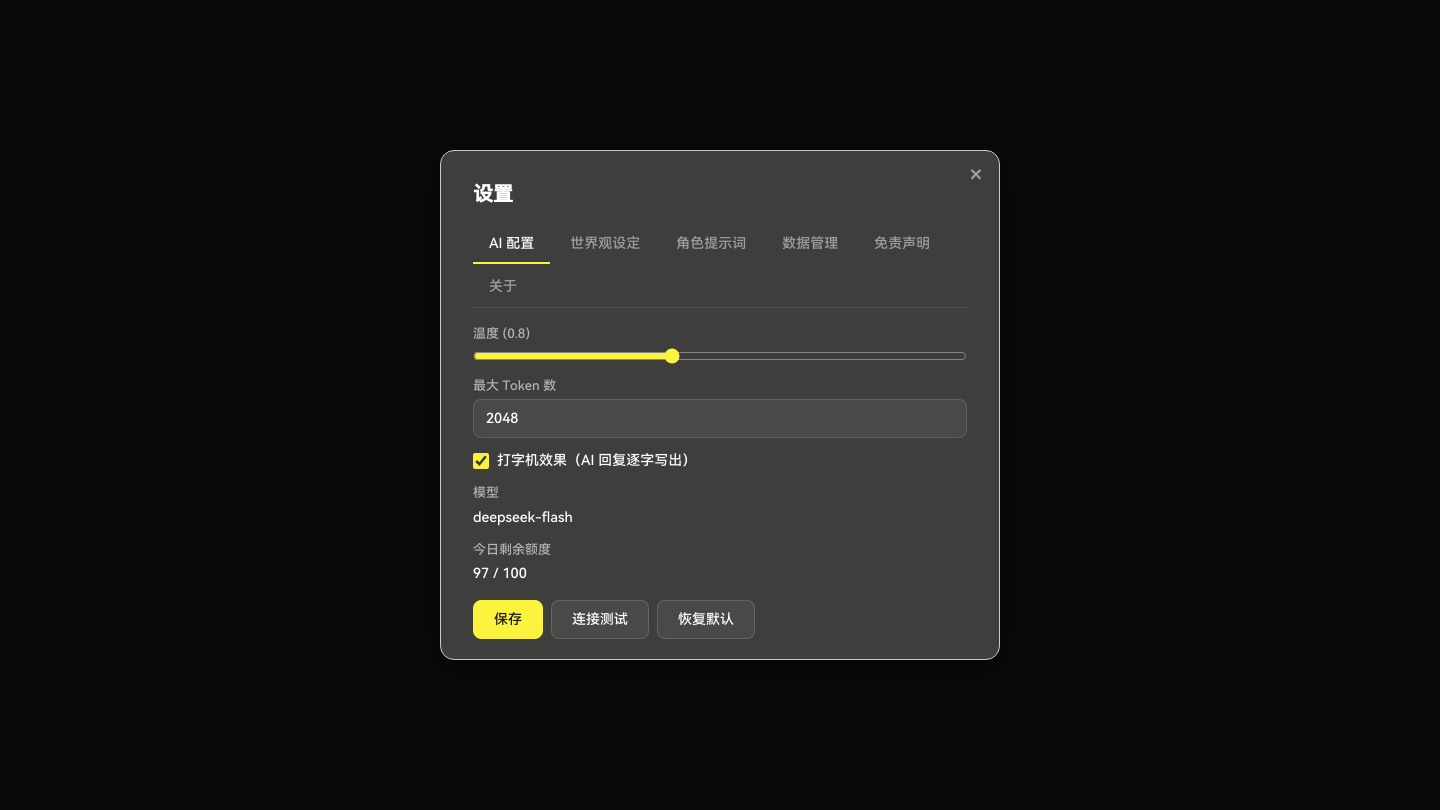
Test: SettingsDialog › 角色提示词保存空值时 PUT 并让徽标消失
Step 1. Click the tab "角色提示词" → [711, 244], box top-left (660, 225), bottom-right (762, 264)
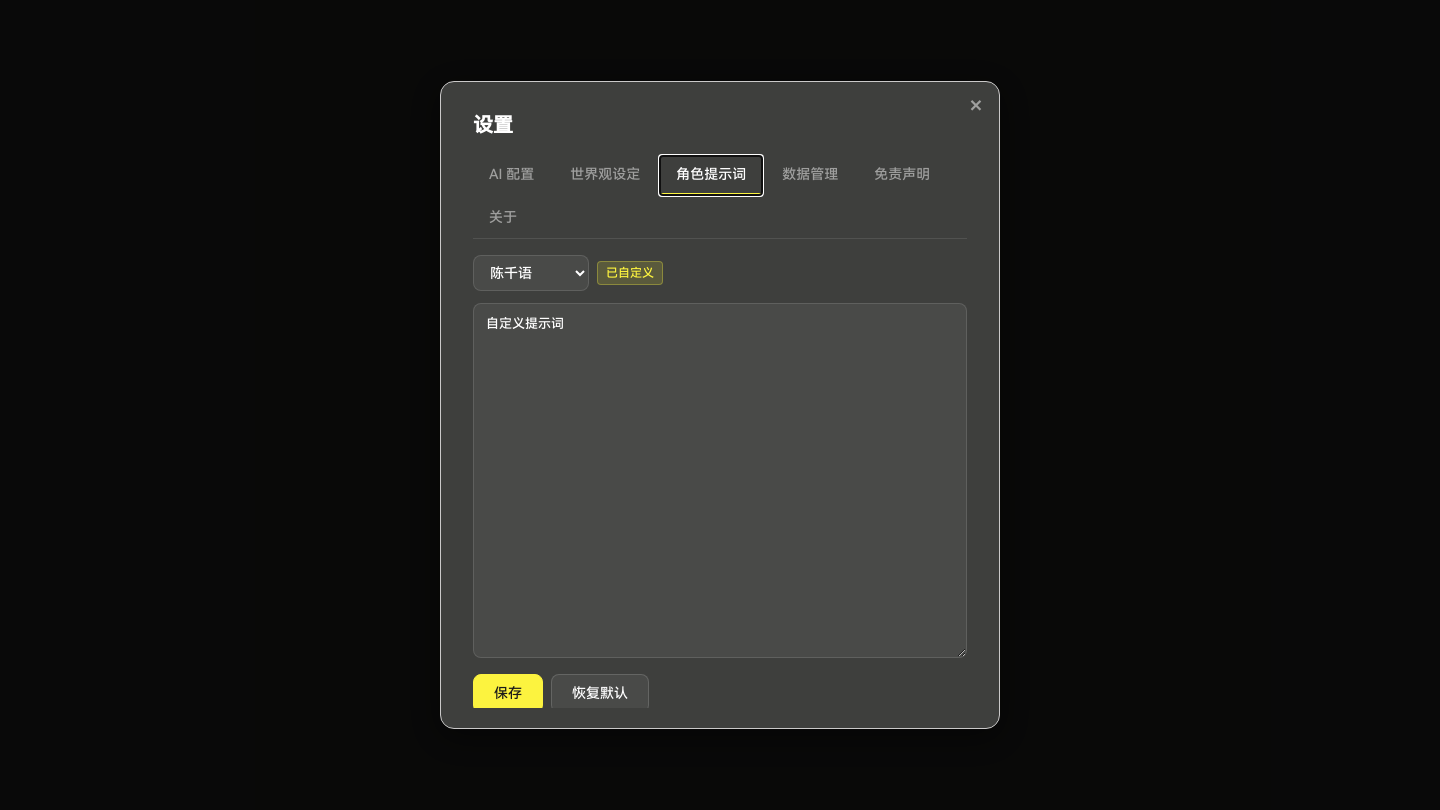
Expected: the dropdown named "角色" shows "陈千语", top-left (473, 255), bottom-right (589, 291)
Expected: the text "已自定义" is shown, top-left (597, 261), bottom-right (663, 285)
Expected: the text box named "角色提示词" holds "自定义提示词"
Step 2. Clear the text box named "角色提示词" → [720, 480], box top-left (473, 303), bottom-right (967, 658)
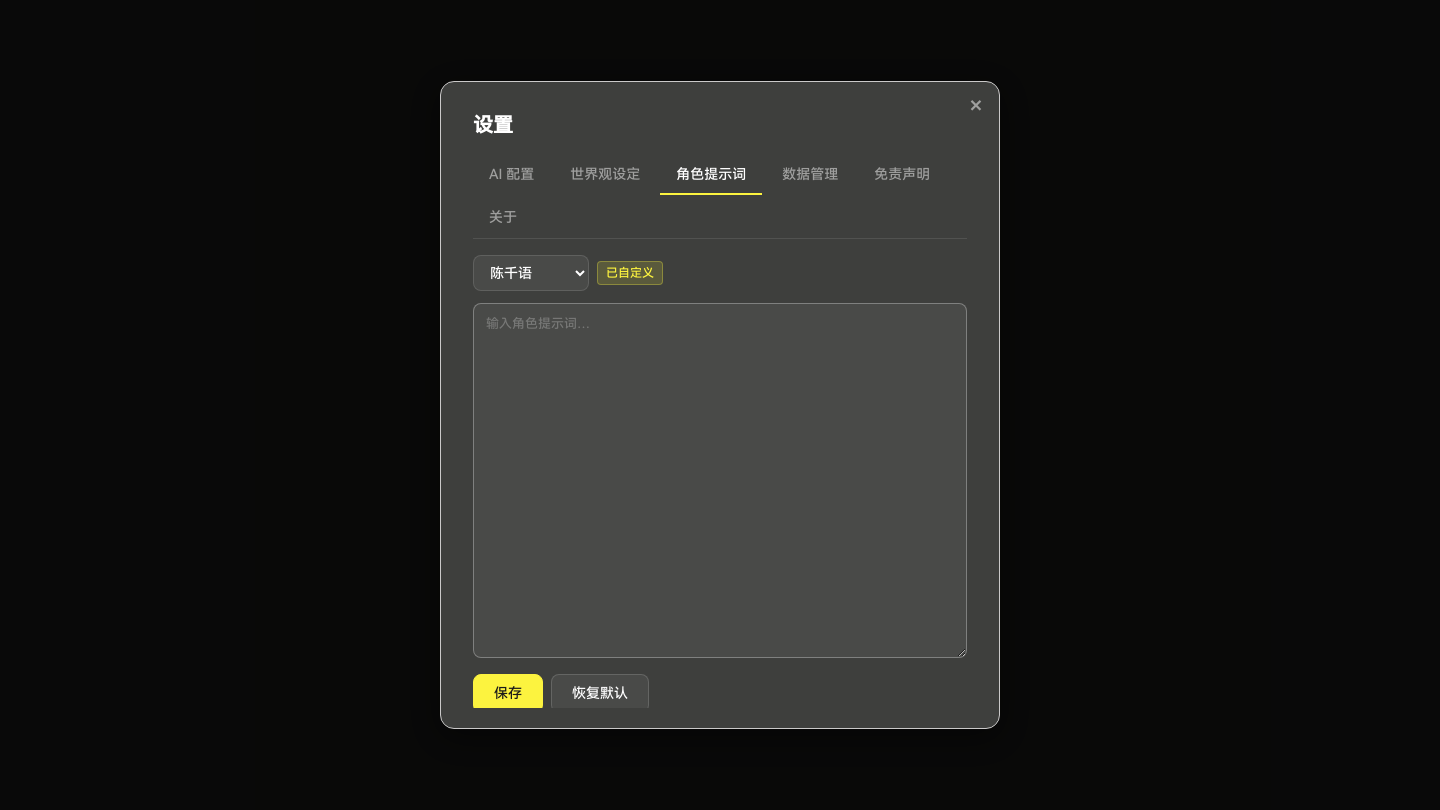
Step 3. Click the button "保存" → [508, 693], box top-left (473, 674), bottom-right (543, 713)
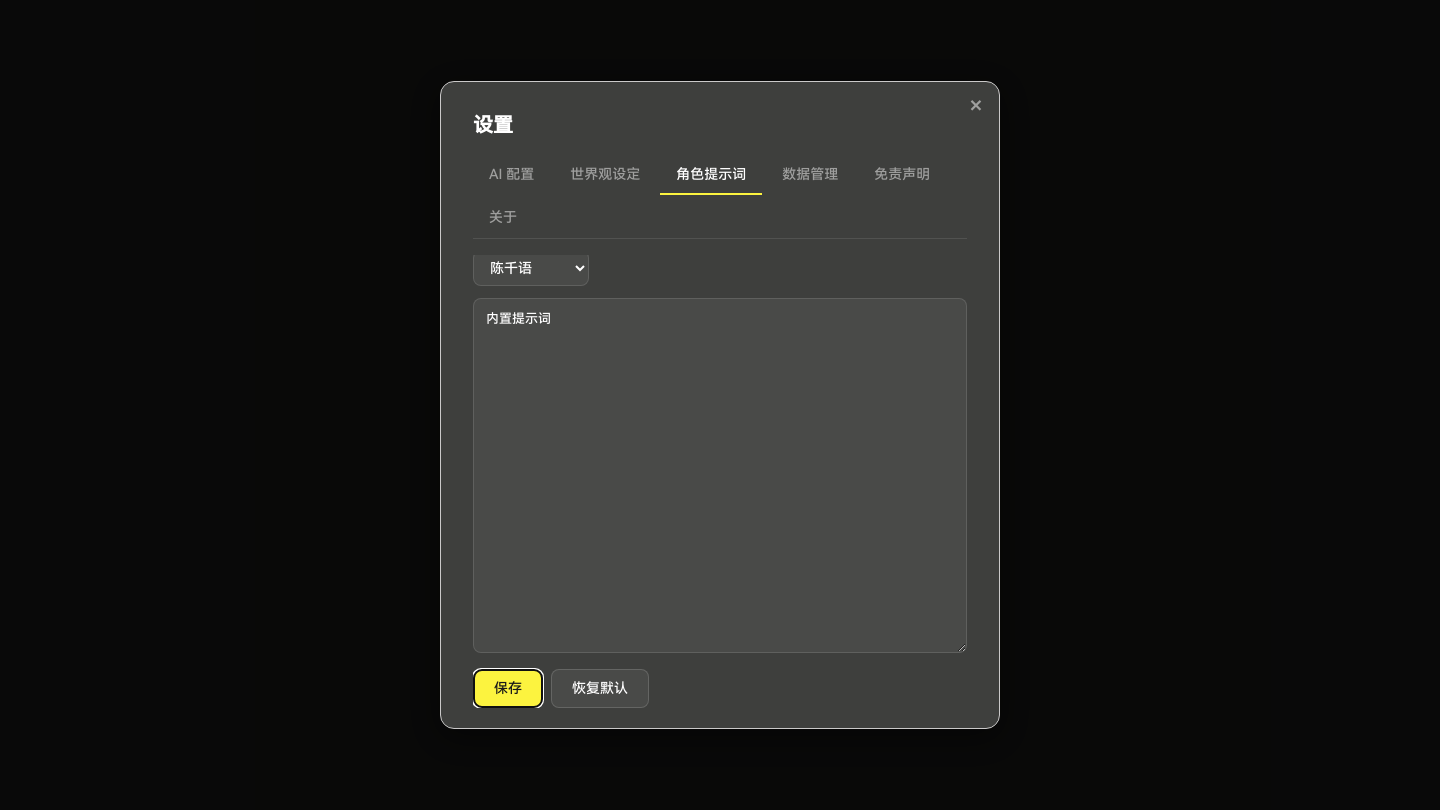
Expected: the text "已自定义" is gone
Expected: the text box named "角色提示词" holds "内置提示词", top-left (473, 298), bottom-right (967, 653)
